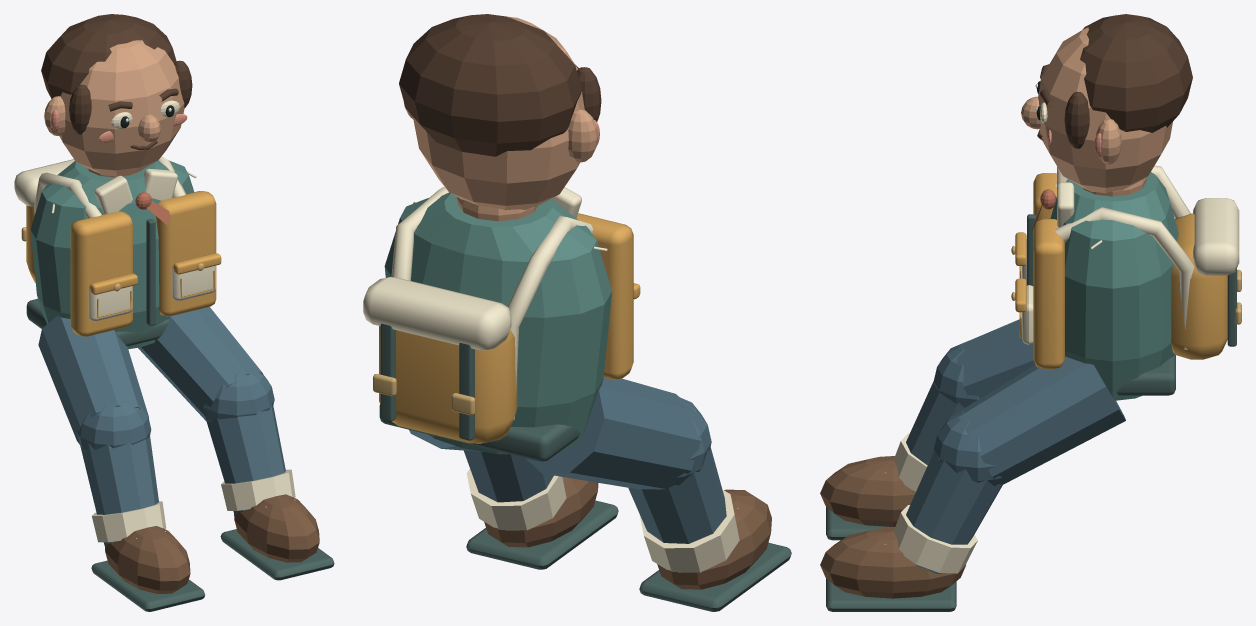
File: angler_body.glb
3 renders of one model, left to right at view 1: azimuth 30°, elevation 25°; view 2: azimuth 150°, elevation 25°; view 3: azimuth 270°, elevation 25°, orthographic. The views are drawn at different scales.
Visible parts, largest first — view 1: Head, Tailored_jacket, Trouser_thigh, Trouser_thigh.001, Vest_panel, Hair_cap, Vest_panel.001, Trouser_shin, Trouser_shin.001, Boot.001, Boot, Bent_knee (+20 smaller); view 2: Tailored_jacket, Hair_cap, Trouser_thigh, Backpack, Head, Backpack_flap, Trouser_shin, Vest_panel, Boot, Boot_sole, Boot_sole.001, Rolled_cuff (+12 smaller); view 3: Tailored_jacket, Trouser_thigh.001, Hair_cap, Head, Boot.001, Trouser_shin.001, Backpack, Boot, Vest_panel.001, Trouser_thigh, Backpack_flap, Rolled_cuff.001 (+15 smaller).
Part boxes in pixels (x1,y1,x2,y2): Head: (59, 40, 184, 176); Tailored_jacket: (30, 160, 194, 349); Trouser_thigh: (38, 316, 148, 442); Trouser_thigh.001: (138, 307, 263, 421); Vest_panel: (70, 211, 132, 336); Hair_cap: (41, 14, 176, 98); Vest_panel.001: (156, 191, 216, 316); Trouser_shin: (80, 436, 158, 545); Trouser_shin.001: (206, 404, 285, 515); Boot.001: (234, 494, 319, 562); Boot: (104, 526, 190, 593); Bent_knee: (76, 401, 151, 451); Tailored_jacket: (384, 192, 611, 454); Hair_cap: (399, 14, 581, 156); Trouser_thigh: (525, 378, 700, 489); Backpack: (379, 326, 517, 443); Head: (413, 16, 584, 210); Backpack_flap: (363, 277, 511, 350); Trouser_shin: (628, 447, 726, 543); Vest_panel: (576, 213, 633, 379); Boot: (657, 489, 771, 589); Boot_sole: (639, 542, 791, 611); Boot_sole.001: (466, 500, 618, 569); Rolled_cuff: (639, 489, 739, 572); Tailored_jacket: (1050, 172, 1178, 400); Trouser_thigh.001: (957, 356, 1125, 485); Hair_cap: (1080, 14, 1192, 132); Head: (1038, 27, 1172, 193); Boot.001: (820, 527, 965, 598); Trouser_shin.001: (906, 449, 1002, 573); Backpack: (1171, 213, 1227, 359); Boot: (820, 456, 915, 526); Vest_panel.001: (1033, 219, 1064, 369); Trouser_thigh: (957, 318, 1035, 403); Backpack_flap: (1193, 198, 1239, 275); Rolled_cuff.001: (893, 505, 977, 573).
Size of the model in its own units: 0.647 by 1.55 by 1.1.
